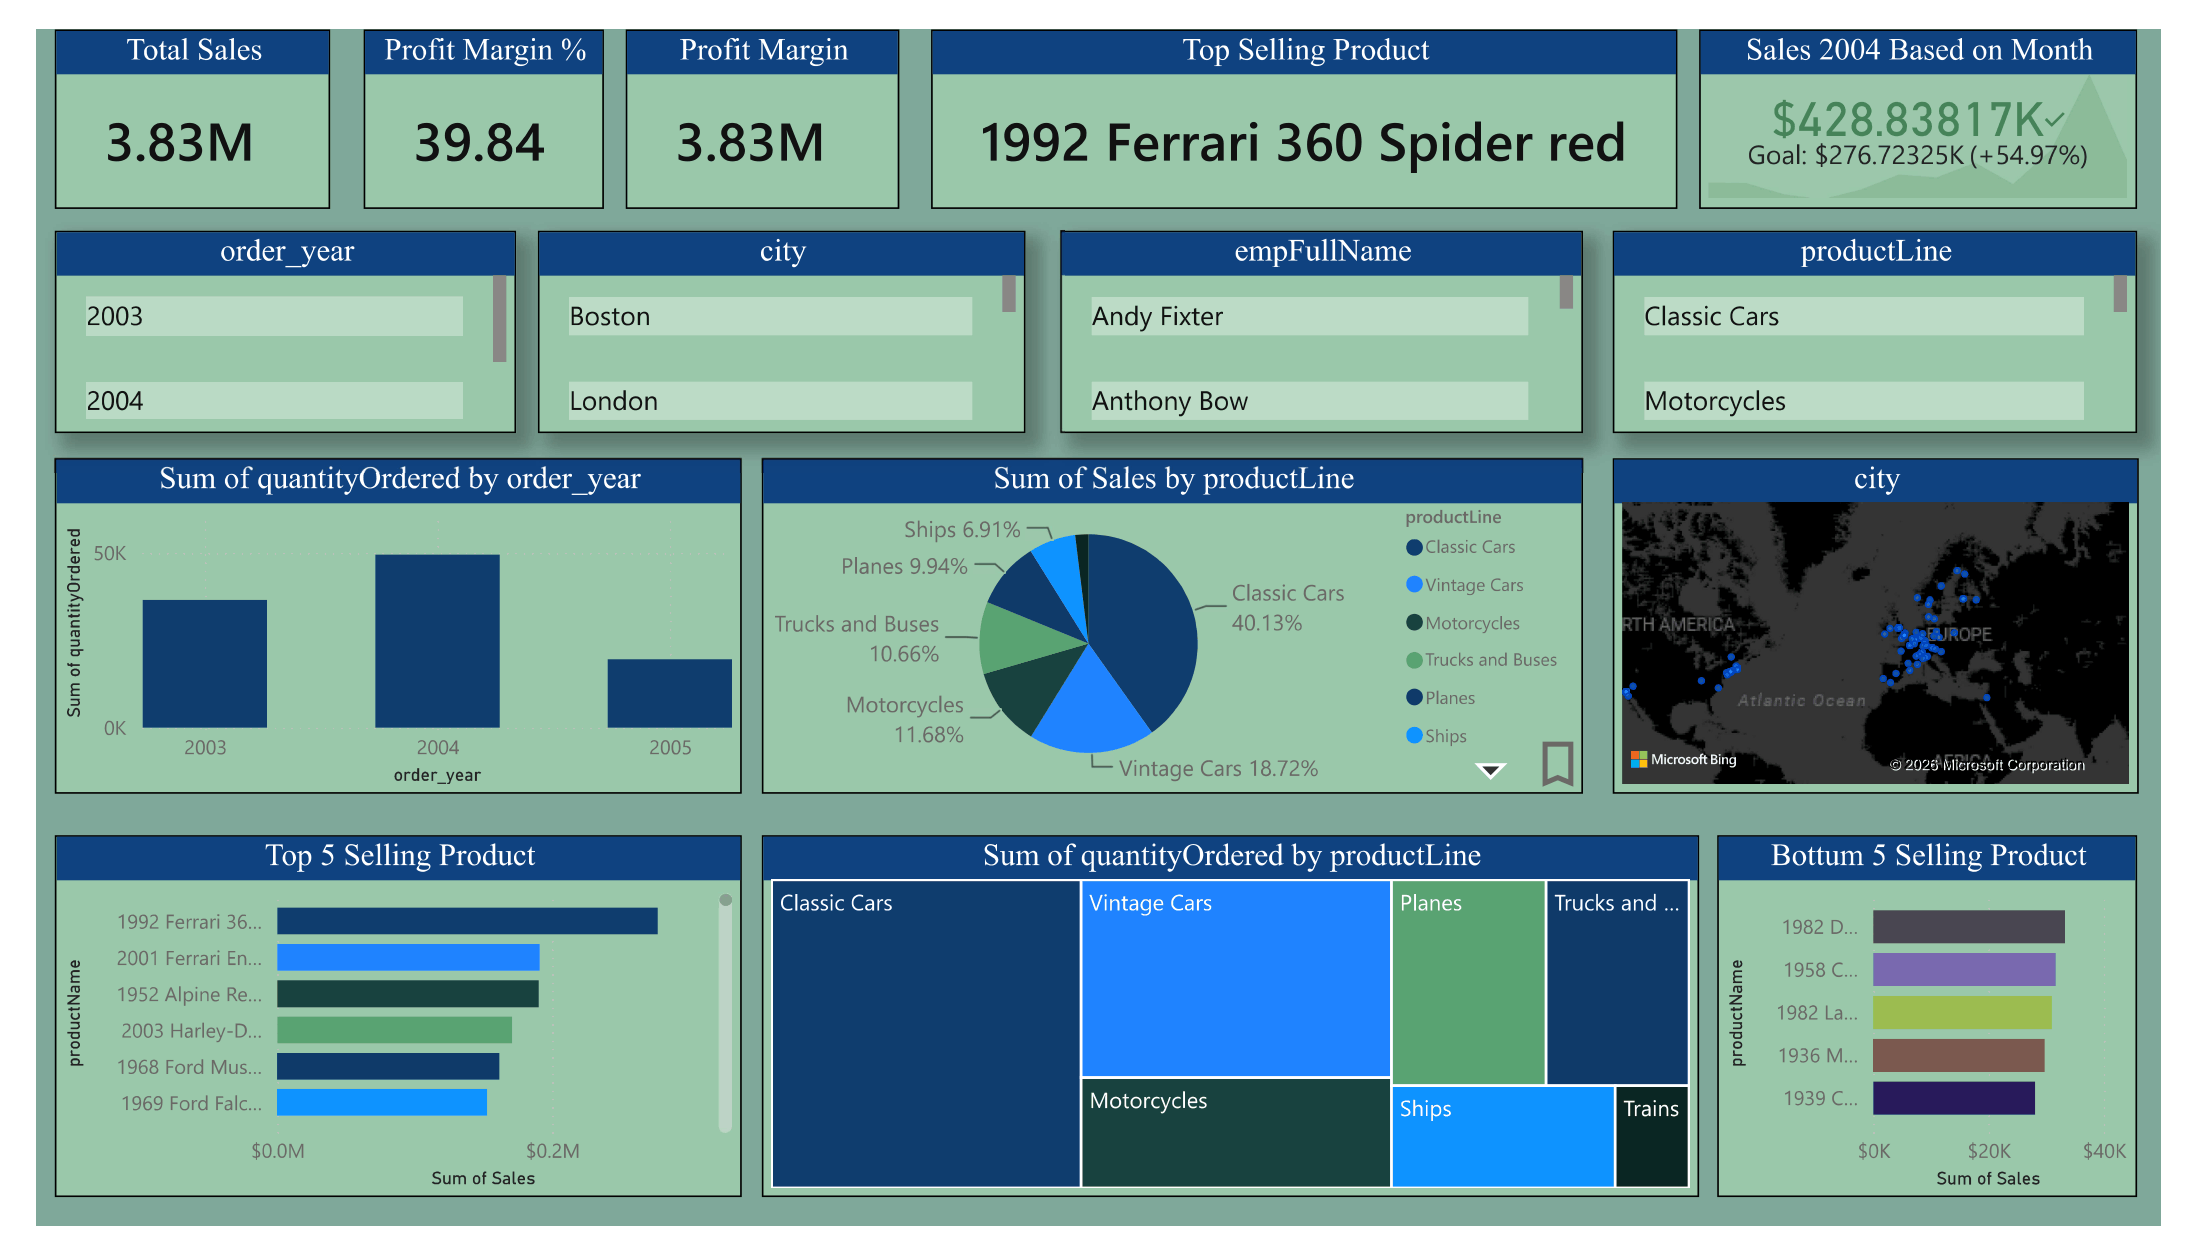

The page's visual inventory and layout, read from the dashboard file:
{"tool":"powerbi","page":{"name":"Page 1","canvas":[1280,720],"ordinal":0},"visuals":[{"type":"barChart","title":"Top 5 Selling Product","fields":{"Category":["products.productName"],"Y":["Sum(order_details.Sales)"],"Series":["products.productName"]},"box":[11.1,485.1,413.6,217.9],"z":0},{"type":"pieChart","fields":{"Y":["Sum(order_details.Sales)"],"Category":["products.productLine"]},"box":[437.4,257.7,494.7,202],"z":1000},{"type":"kpi","title":"Sales 2004 Based on Month","fields":{"Indicator":["orders.sales_2004"],"Goal":["orders.sales_2003"],"TrendLine":["orders.Month Name"]},"box":[1002.1,0,264,108.2],"z":2000},{"type":"treemap","fields":{"Group":["productlines.productLine"],"Values":["Sum(order_details.quantityOrdered)"]},"box":[437.4,485.1,564.7,217.9],"z":3000},{"type":"clusteredColumnChart","fields":{"Category":["orders.order_year"],"Y":["Sum(order_details.quantityOrdered)"]},"box":[11.1,257.7,413.6,202],"z":4000},{"type":"cardVisual","title":"Top Selling Product","fields":{"Data":["order_details.MostOrderedProduct"]},"box":[539.2,0,450.1,108.2],"z":5000},{"type":"cardVisual","title":"Profit Margin","fields":{"Data":["order_details.total_profit"]},"box":[354.7,0,165.4,108.2],"z":6000},{"type":"cardVisual","title":"Total Sales","fields":{"Data":["order_details.total_profit"]},"box":[11.1,0,165.4,108.2],"z":7000},{"type":"cardVisual","title":"Profit Margin %","fields":{"Data":["classic_models_dataset.Profit_Margin_%"]},"box":[197.2,0,144.7,108.2],"z":8000},{"type":"advancedSlicerVisual","fields":{"Values":["employees.empFullName"]},"box":[617.2,120.9,314.9,122.5],"z":9000},{"type":"advancedSlicerVisual","fields":{"Values":["productlines.productLine"]},"box":[949.6,120.9,316.5,122.5],"z":10000},{"type":"advancedSlicerVisual","fields":{"Values":["orders.order_year"]},"box":[11.1,120.9,278.4,122.5],"z":11000},{"type":"advancedSlicerVisual","fields":{"Values":["offices.city"]},"box":[302.2,120.9,294.3,122.5],"z":12000},{"type":"map","fields":{"Category":["customers.city"]},"box":[950,258,317,202],"z":13000},{"type":"barChart","title":"Bottum 5 Selling Product","fields":{"Category":["products.productName"],"Y":["Sum(order_details.Sales)"],"Series":["products.productName"]},"box":[1013.2,485.1,252.9,217.9],"z":14000},{"type":"actionButton","box":[899.4,423.7,50.1,36.6],"z":15000}]}

Visuals, with their boxes in screenshot pixels (x1, y1, x2, y2), scaled from the page's 1280x720 canvas onto the 2187x1241 screenshot:
"Top 5 Selling Product" barChart: pyautogui.locateOnScreen(19, 836, 726, 1212)
pieChart - Sum(order_details.Sales) x products.productLine: pyautogui.locateOnScreen(747, 444, 1593, 792)
"Sales 2004 Based on Month" kpi: pyautogui.locateOnScreen(1712, 0, 2163, 186)
treemap - productlines.productLine x Sum(order_details.quantityOrdered): pyautogui.locateOnScreen(747, 836, 1712, 1212)
clusteredColumnChart - orders.order_year x Sum(order_details.quantityOrdered): pyautogui.locateOnScreen(19, 444, 726, 792)
"Top Selling Product" cardVisual: pyautogui.locateOnScreen(921, 0, 1690, 186)
"Profit Margin" cardVisual: pyautogui.locateOnScreen(606, 0, 889, 186)
"Total Sales" cardVisual: pyautogui.locateOnScreen(19, 0, 302, 186)
"Profit Margin %" cardVisual: pyautogui.locateOnScreen(337, 0, 584, 186)
advancedSlicerVisual - employees.empFullName: pyautogui.locateOnScreen(1055, 208, 1593, 420)
advancedSlicerVisual - productlines.productLine: pyautogui.locateOnScreen(1622, 208, 2163, 420)
advancedSlicerVisual - orders.order_year: pyautogui.locateOnScreen(19, 208, 495, 420)
advancedSlicerVisual - offices.city: pyautogui.locateOnScreen(516, 208, 1019, 420)
map - customers.city: pyautogui.locateOnScreen(1623, 445, 2165, 793)
"Bottum 5 Selling Product" barChart: pyautogui.locateOnScreen(1731, 836, 2163, 1212)
actionButton: pyautogui.locateOnScreen(1537, 730, 1622, 793)
